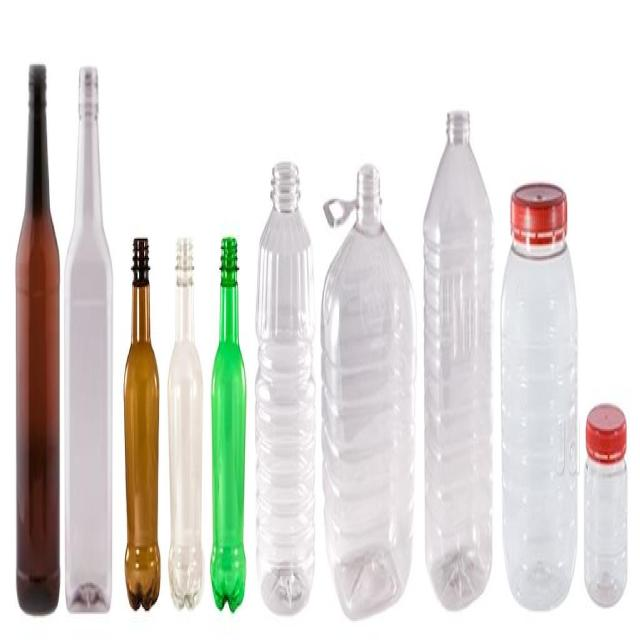plastic_bottle: (328, 170, 413, 603), (427, 135, 496, 595), (257, 163, 316, 604), (513, 197, 574, 595), (70, 76, 113, 614), (21, 66, 59, 612), (213, 247, 253, 609), (170, 254, 210, 612), (131, 249, 161, 602), (587, 415, 630, 606)
